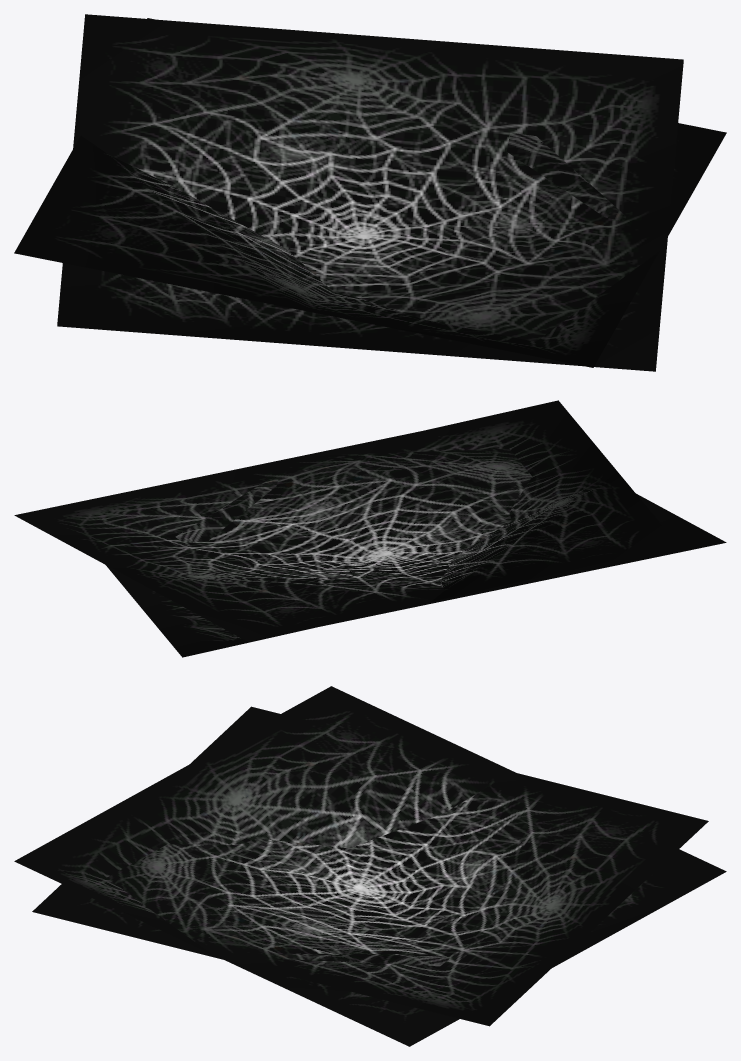
Rendered from DWARF_PALACE_SPIDERWEB03.fbx.
3 renders of one model, top to bottom at view 1: azimuth 30°, elevation 25°; view 2: azimuth 150°, elevation 25°; view 3: azimuth 270°, elevation 25°, orthographic. The views are drawn at different scales.
Parts seen in each view (by area): view 1: DWARF_PALACE_SPIDERWEB03; view 2: DWARF_PALACE_SPIDERWEB03; view 3: DWARF_PALACE_SPIDERWEB03.
Boxes of the visible parts, x1=… form: DWARF_PALACE_SPIDERWEB03: x1=14, y1=14, x2=726, y2=371; DWARF_PALACE_SPIDERWEB03: x1=14, y1=400, x2=726, y2=657; DWARF_PALACE_SPIDERWEB03: x1=14, y1=686, x2=726, y2=1046.
Bounding box in the file's own units: 180661 × 27736 × 188004.
1 material, 1 textured.
